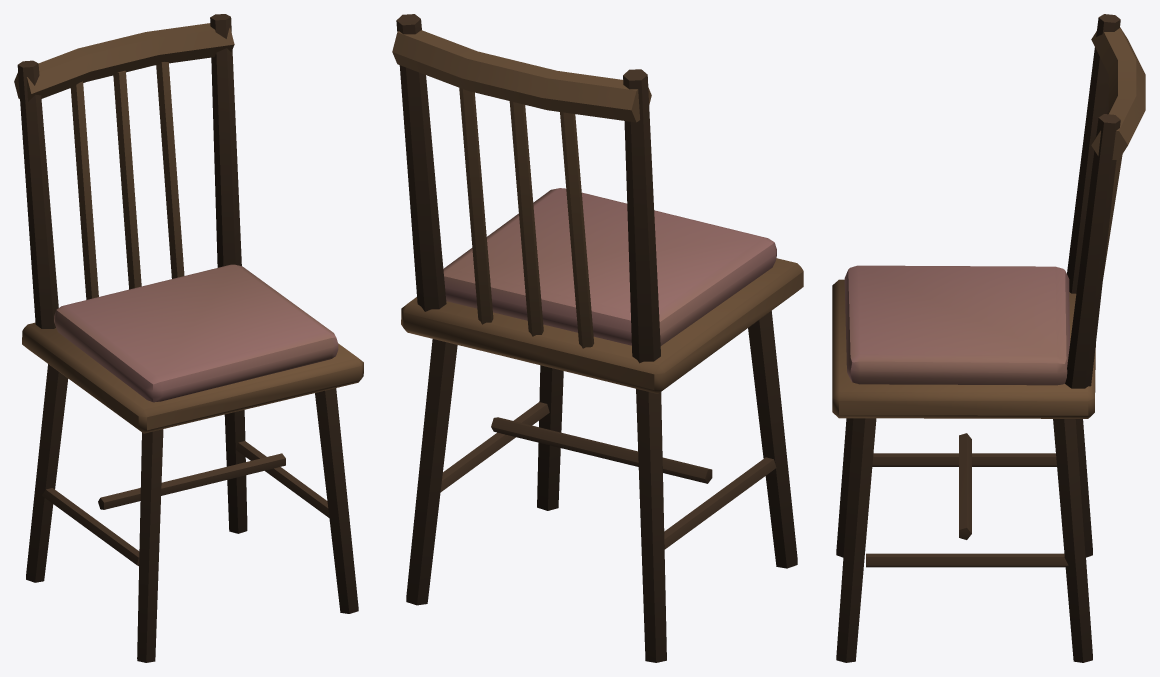
The model's file is ph_int_chair.glb.
The picture shows the model from 3 angles, left to right: view 1: azimuth 30°, elevation 25°; view 2: azimuth 150°, elevation 25°; view 3: azimuth 270°, elevation 25°; orthographic projection. The views are drawn at different scales.
Parts seen in each view (by area): view 1: ph_int_chair; view 2: ph_int_chair; view 3: ph_int_chair.
Part boxes in pixels (x1=…): ph_int_chair: x1=14, y1=14, x2=363, y2=662; ph_int_chair: x1=392, y1=14, x2=803, y2=662; ph_int_chair: x1=832, y1=14, x2=1145, y2=662.
Size of the model in its own units: 0.4212 by 0.9035 by 0.4756.
